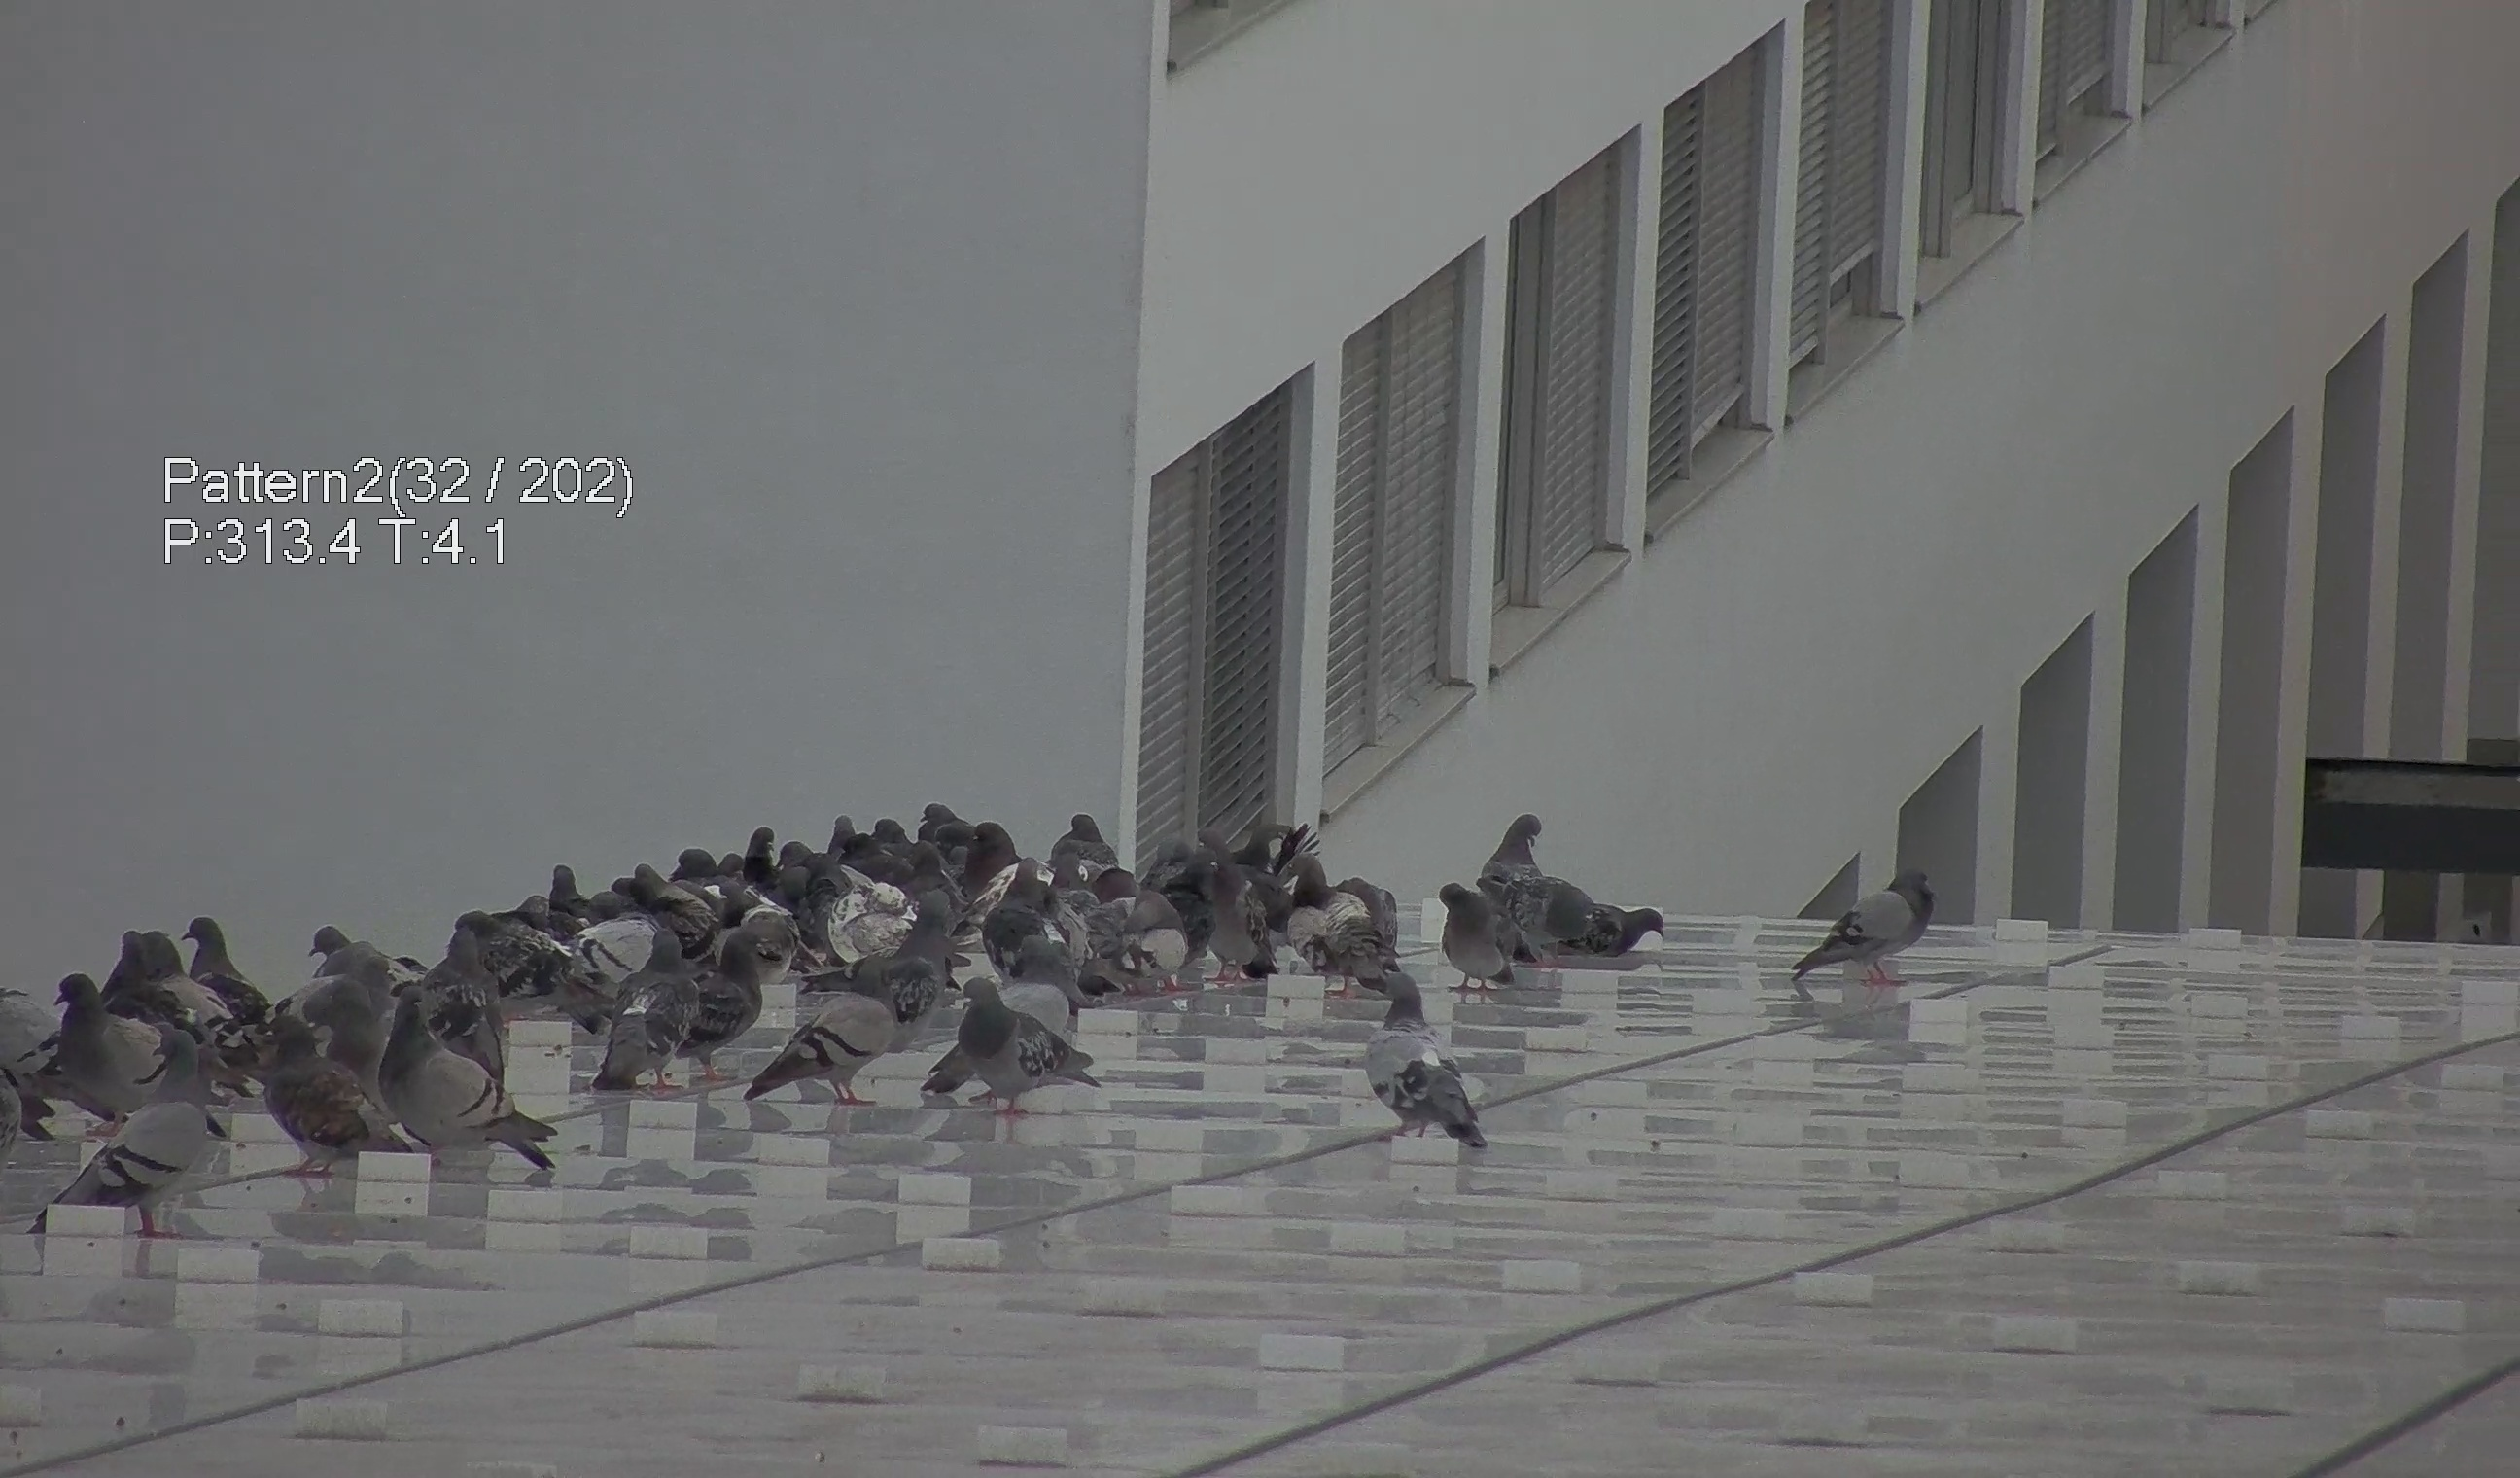Pigeon: (311, 945, 540, 1170), (58, 1029, 225, 1249), (357, 999, 550, 1177), (246, 948, 396, 1156), (1474, 816, 1671, 971), (909, 982, 1106, 1124), (1351, 982, 1500, 1160), (587, 933, 756, 1086), (42, 966, 183, 1124), (761, 948, 900, 1107), (1801, 859, 1948, 984), (1282, 853, 1389, 994), (1428, 873, 1521, 996), (169, 904, 253, 975), (540, 857, 600, 929), (299, 926, 364, 971), (740, 811, 793, 866)
